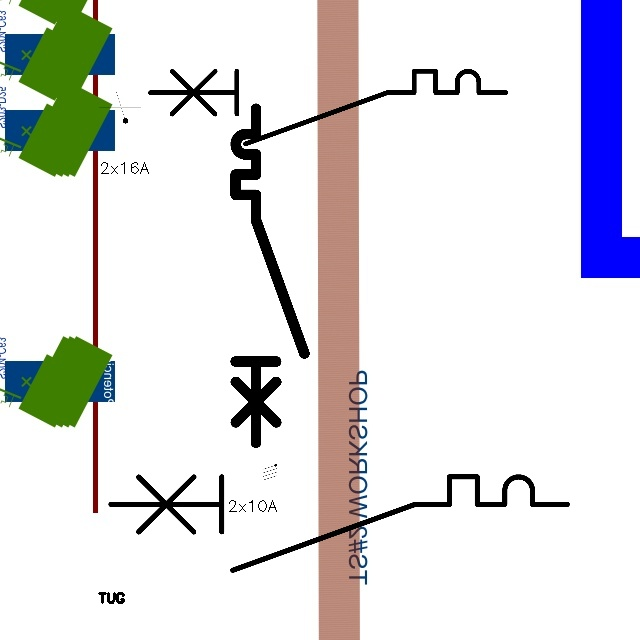interruptor_termomagnetico: (99, 465, 579, 582), (141, 62, 515, 153), (227, 100, 313, 451)
